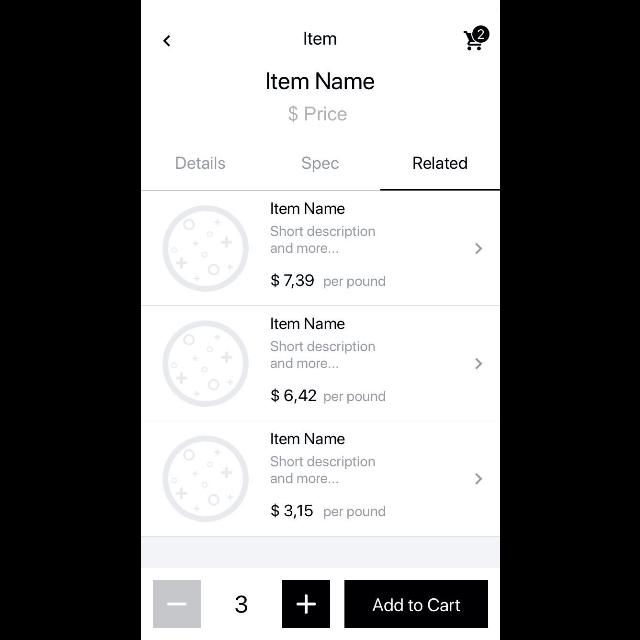icon: (282, 580, 330, 628), (153, 580, 201, 628), (464, 26, 488, 50), (474, 243, 482, 254), (474, 358, 482, 369), (162, 36, 170, 46), (474, 474, 482, 484)
image: (162, 206, 248, 292), (162, 321, 248, 407), (162, 436, 248, 522)
text: (270, 226, 374, 254), (270, 456, 374, 484), (271, 342, 375, 368), (266, 72, 374, 90), (288, 106, 346, 122), (270, 202, 344, 214), (270, 318, 344, 329), (270, 434, 344, 444), (270, 388, 316, 404), (324, 276, 384, 288), (324, 391, 384, 403), (324, 506, 384, 518), (413, 157, 467, 169), (271, 274, 313, 288), (176, 157, 224, 169), (272, 504, 312, 518), (302, 158, 338, 172), (304, 32, 336, 46), (235, 596, 248, 612)
textbutton: (344, 580, 488, 628)
